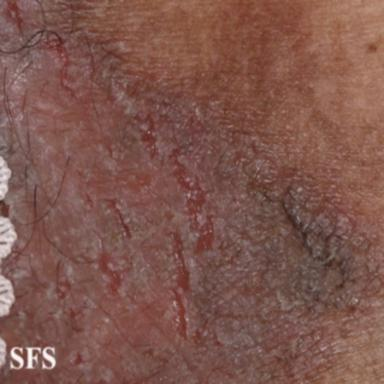Hailey-Hailey-Disease: (0, 3, 247, 383)
